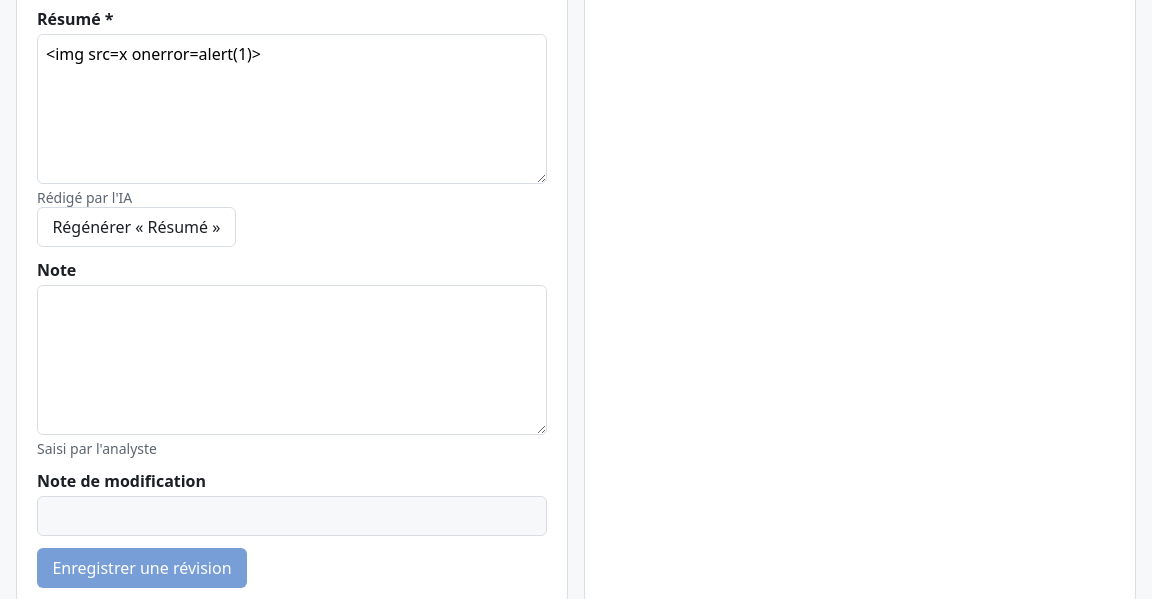
bulletin screens › renders the bulletin safely and saves an edit as a new revision
The width and height of the screenshot is (1152, 599).
(page scrolled)
Check: the text box labelled "Résumé *" holds "<img src=x onerror=alert(1)>", box 37,34 -> 547,184
Type "Vu avec l'équipe réseau." into the text box labelled "Note" at (292, 360), box 37,285 -> 547,435
(page scrolled)
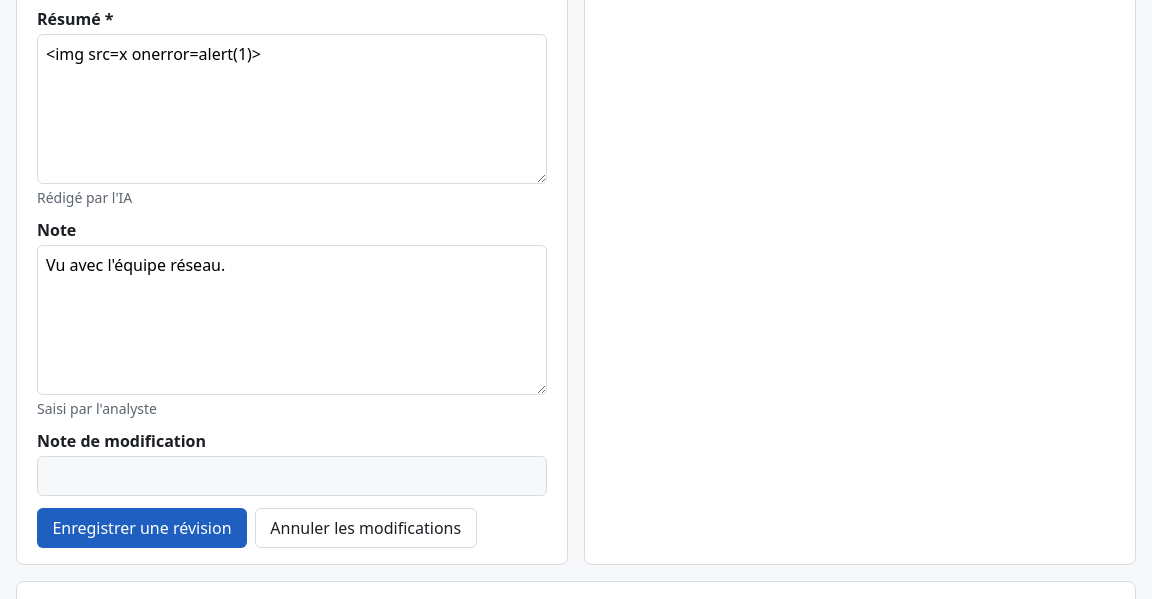
Click the button "Enregistrer une révision" at (142, 528), box 37,508 -> 247,548
(page scrolled)
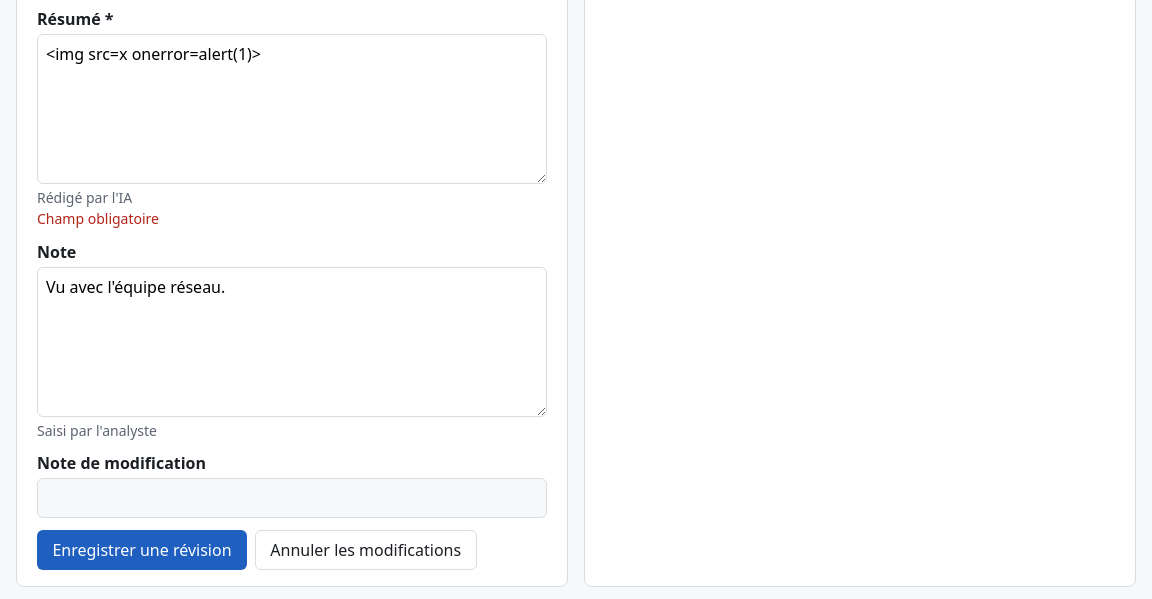
Check: the text "Champ obligatoire" is shown, box 37,209 -> 159,228
